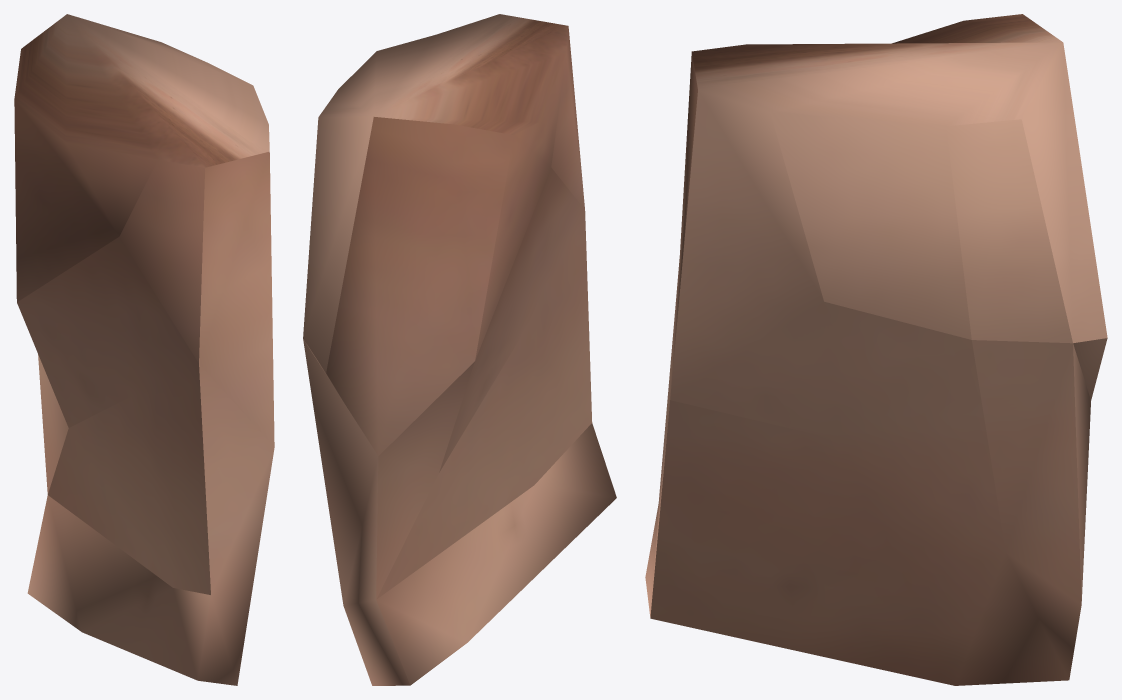
File: handr.fbx
3 views of the same model, side by side, from view 1: azimuth 30°, elevation 25°; view 2: azimuth 150°, elevation 25°; view 3: azimuth 270°, elevation 25° (orthographic). The views are drawn at different scales.
Parts seen in each view (by area): view 1: Arm1.001; view 2: Arm1.001; view 3: Arm1.001.
Boxes of the visible parts, <box> form: Arm1.001: <box>14,14,274,685</box>; Arm1.001: <box>303,14,616,685</box>; Arm1.001: <box>645,14,1107,685</box>.
Size of the model in its own units: 3.84 by 11.28 by 7.35.
